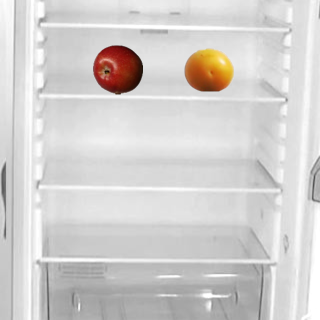Apple Braeburn: (92, 44, 142, 94)
Cherry Wax Yellow: (183, 44, 233, 94)
